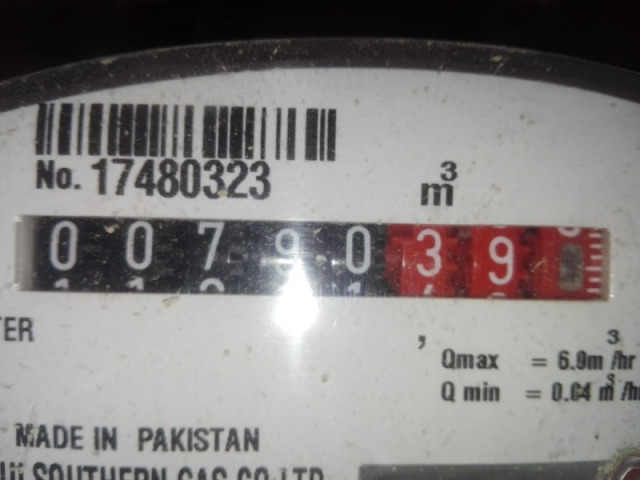ssgc: (9, 210, 612, 308)
